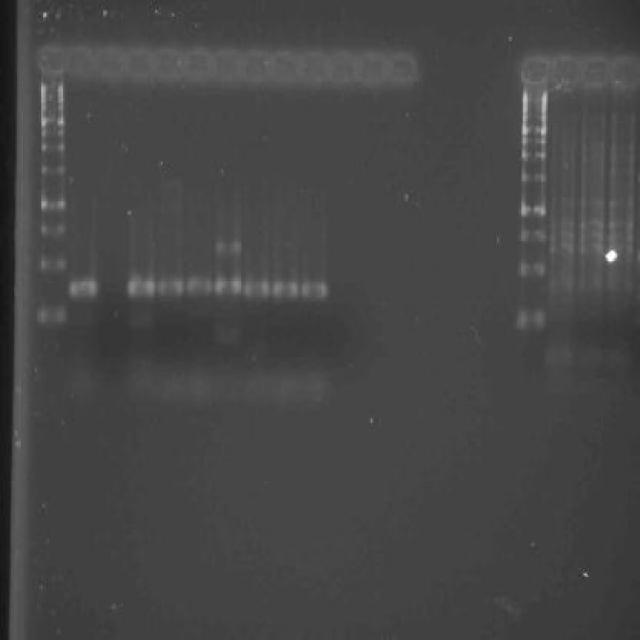B: (124, 271, 158, 300), (66, 278, 102, 302), (157, 272, 186, 300), (270, 274, 298, 302), (300, 276, 328, 304), (183, 273, 214, 298), (212, 272, 242, 297), (242, 275, 268, 300), (215, 238, 242, 255)
L: (28, 36, 426, 95)
M: (29, 76, 69, 330)
P: (34, 299, 66, 327), (37, 255, 66, 274), (38, 196, 68, 213), (38, 224, 66, 238), (40, 164, 66, 178), (40, 116, 66, 130), (40, 142, 66, 155), (38, 81, 66, 92), (40, 129, 66, 140), (40, 106, 66, 117), (39, 94, 64, 105)
Pc: (386, 51, 422, 88), (184, 44, 216, 84), (95, 44, 128, 82), (357, 48, 388, 87), (299, 48, 330, 87), (242, 45, 270, 87), (271, 47, 300, 87), (154, 46, 183, 83), (67, 42, 95, 80), (329, 49, 357, 86), (36, 42, 66, 76), (216, 46, 242, 85), (128, 44, 154, 80)
